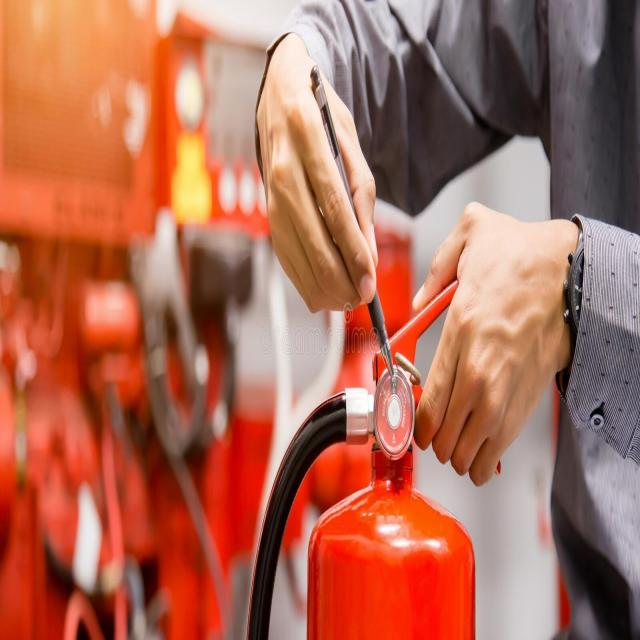fire_extinguisher: (244, 251, 517, 639)
